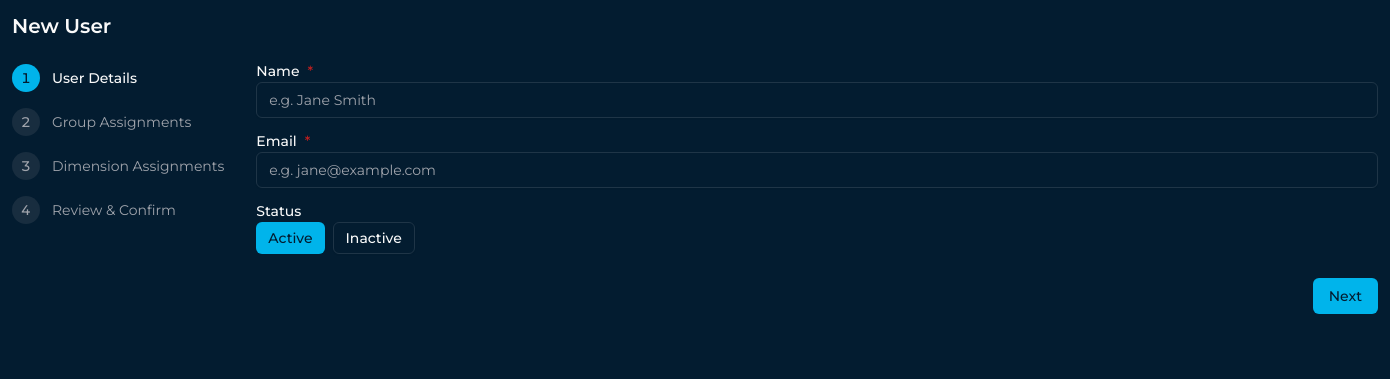
Test case: NewUserPage › "Next" on step 1 with empty name shows inline error and does not advance
Step 1 is the default — try to advance without filling name
Click the button "Next" at (1345, 296), box [1313,278,1378,314]
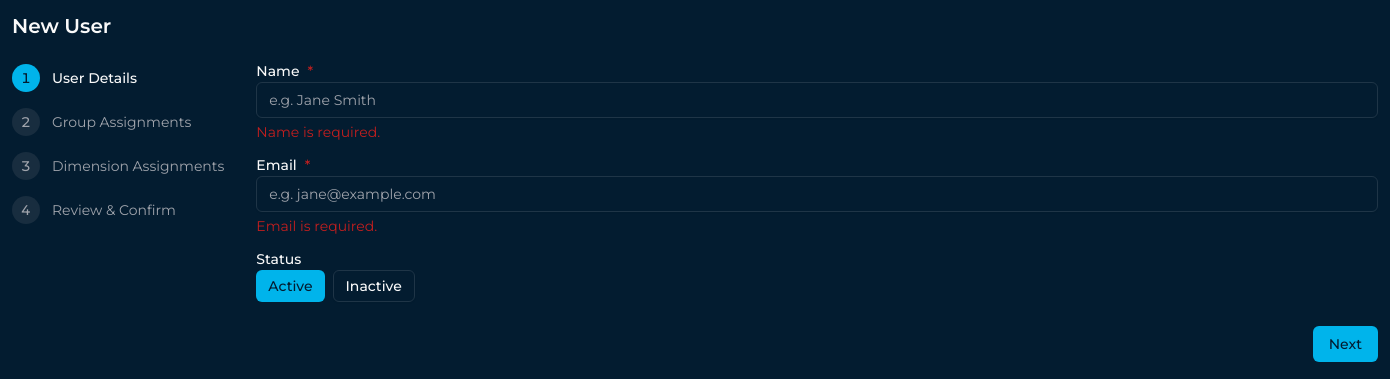
Expected: the field labelled "Name *" is shown, [256,82,1378,118]
Expected: the text "Name is required." is shown, [256,123,380,141]
